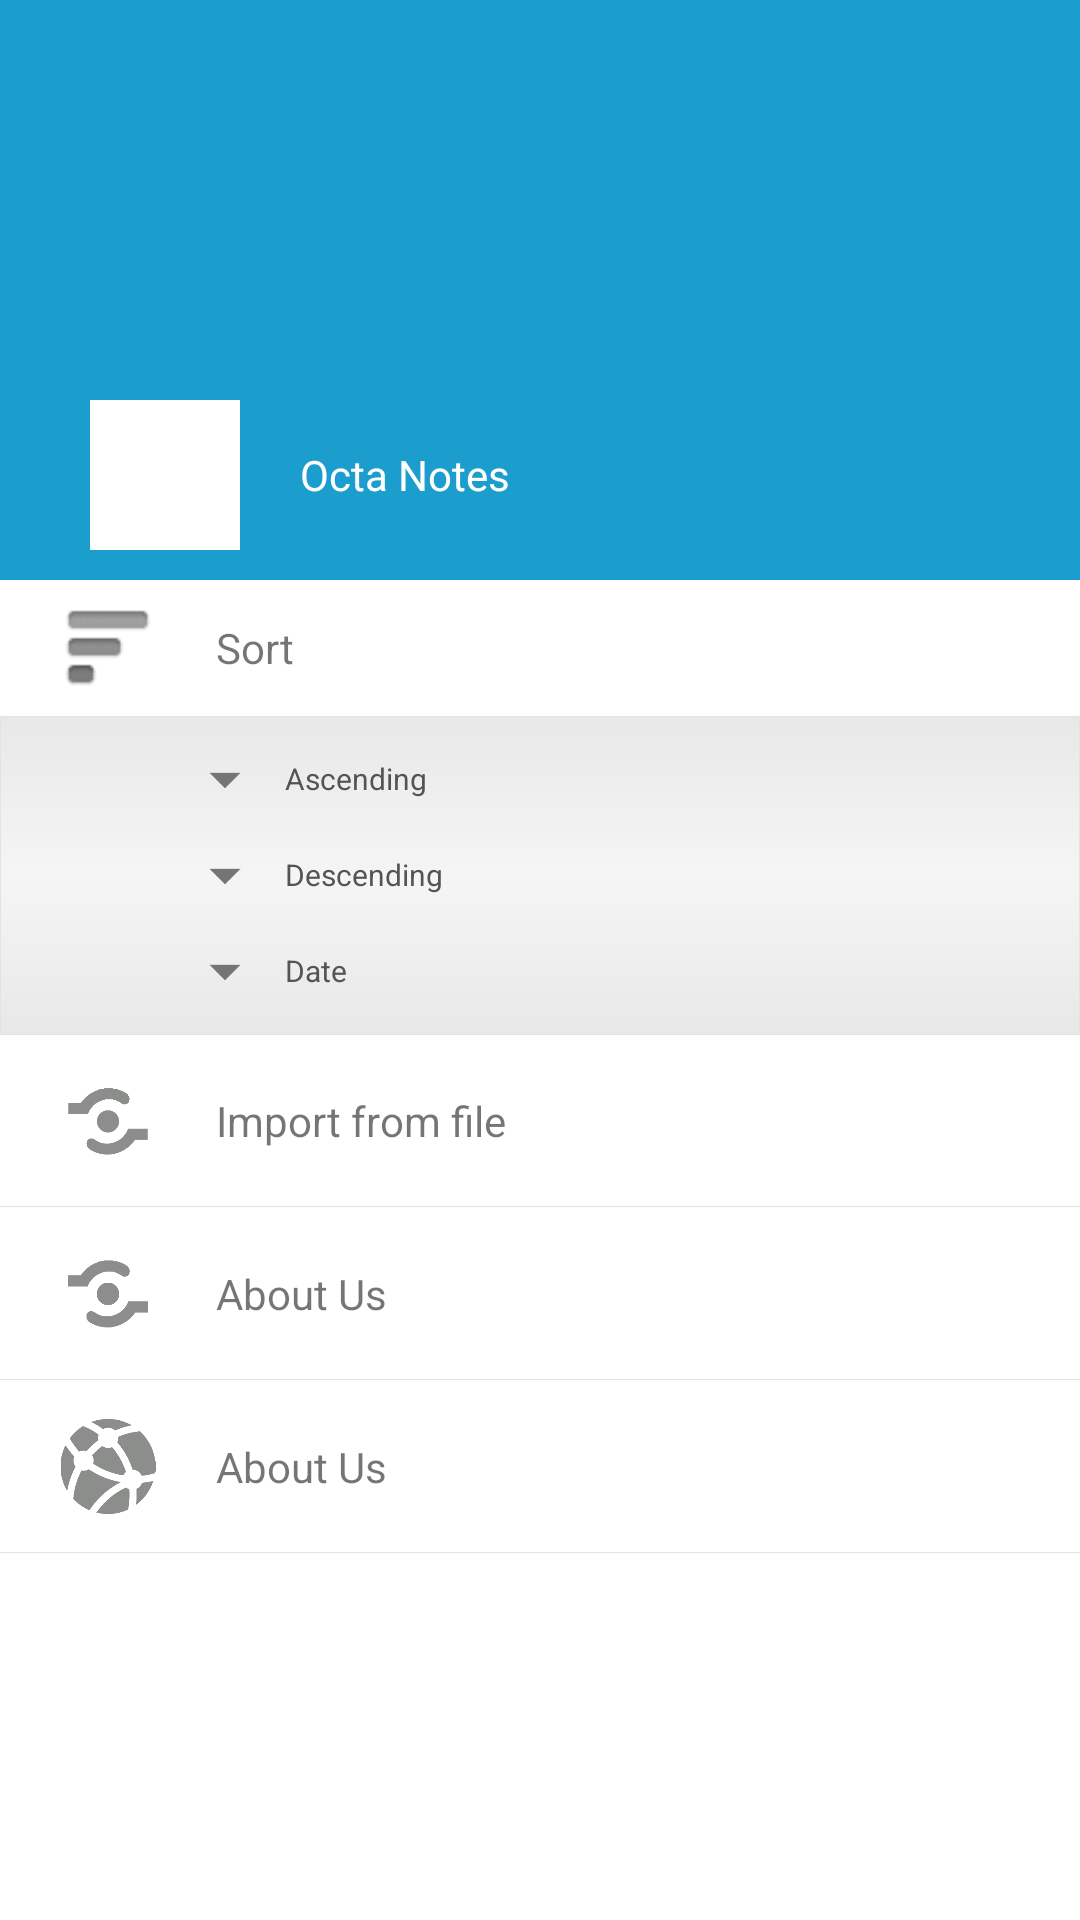

Point at icon controls on the screen. Image size 1080*1920, points as [x,y].
arrow: [225,780], [225,876], [225,972]
